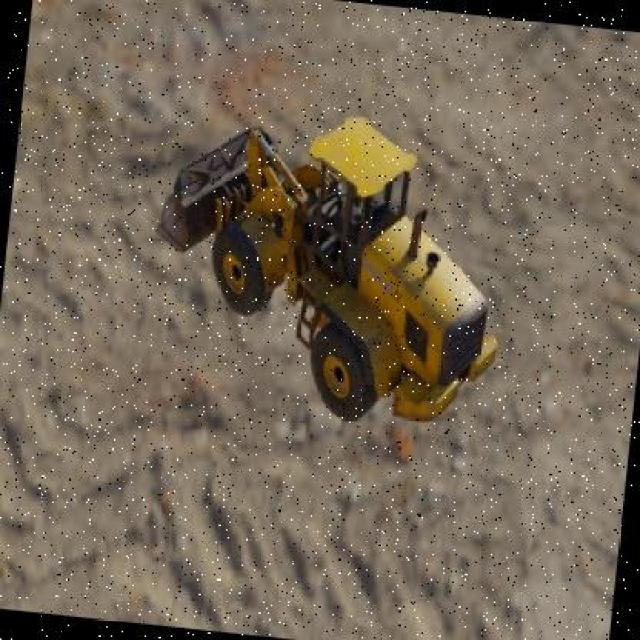buldozerpayloadergrader: (133, 86, 519, 439)
